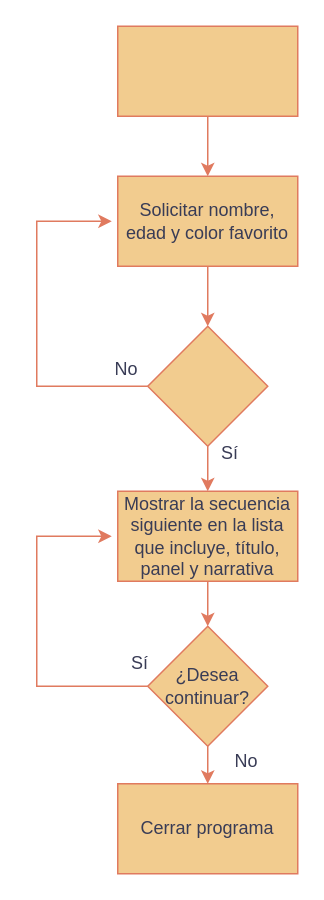
Image size: 324x900. Some labels were removed from this diagram. Each missing label, with the centre of its shape:
Inicio del programa: point (207, 70)
¿Color es válido?: point (207, 385)
